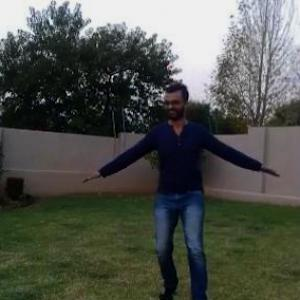land: (82, 70, 299, 299)
